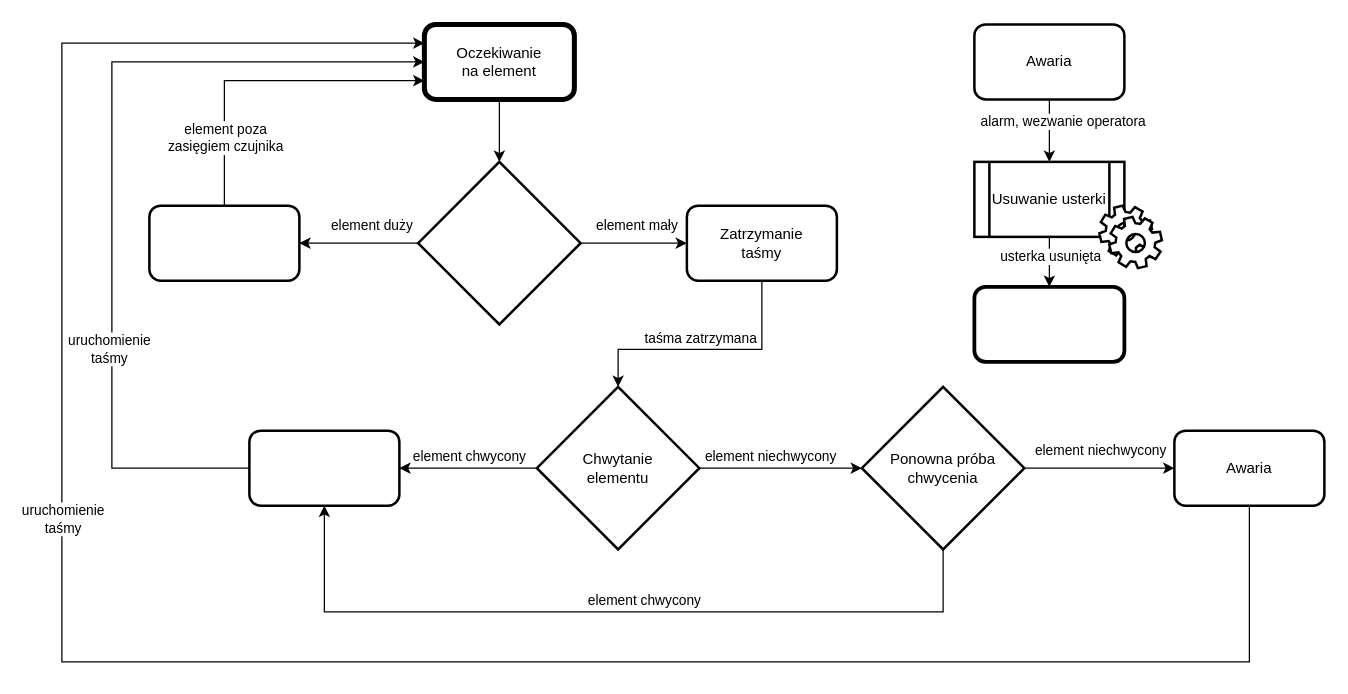
The diagram is 1348 pixels wide and 694 high, and some of its shapes have lost their labels. Here are the shapes that lost their labels. From the top down, the centre of each, then its label:
the point at 224,242: Oczekiwanie, aż element będzie poza zasięgiem czujnika
the point at 498,242: Sprawdzanie rozmiaru elementu
the point at 1049,323: Wyłączenie alarmu
the point at 324,467: Umieszczenie elementu w pojemniku
